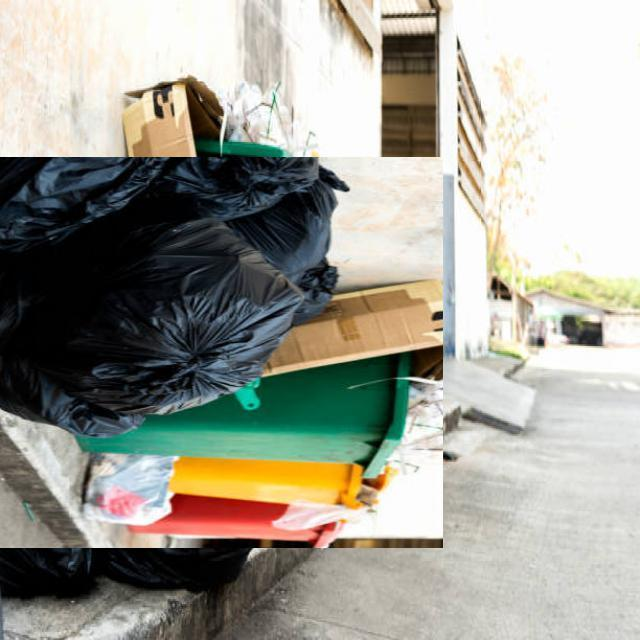Trashbag: (19, 263, 300, 412), (0, 158, 165, 252), (240, 187, 344, 270)
